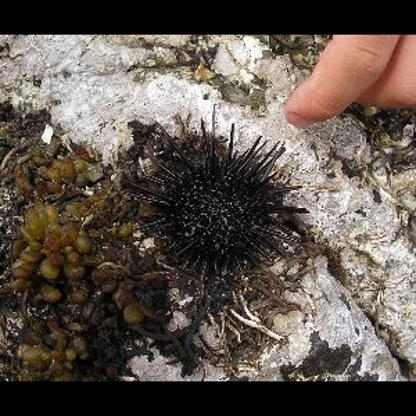urchin: (115, 111, 299, 297)
